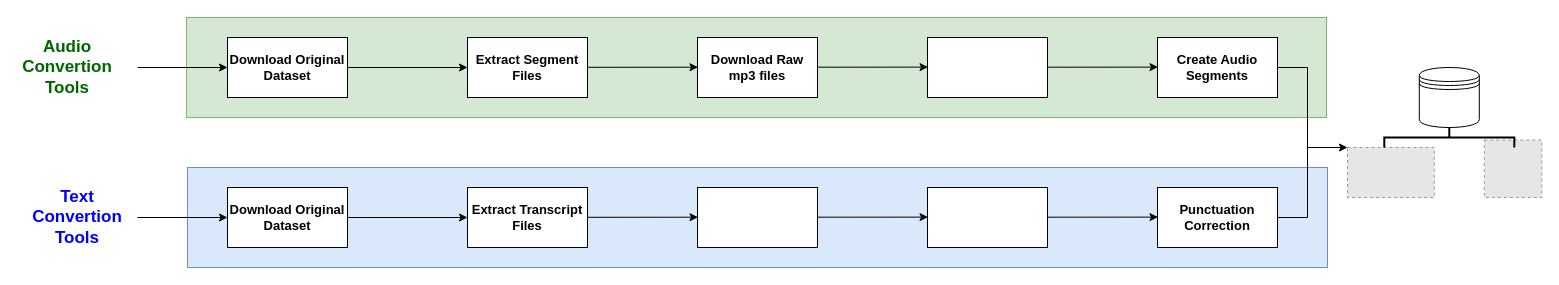
Some shapes in this 1559 by 285 pixel diagram are drawn without their labels. Grey dashed boxes stand in for pictures. Here are the shapes that lost their labels. From the top down, the box of each, then its label:
(926, 36, 1048, 98): Create Segments Lists
(696, 186, 818, 248): Download Books files
(926, 186, 1048, 248): Extract Book Datasets
